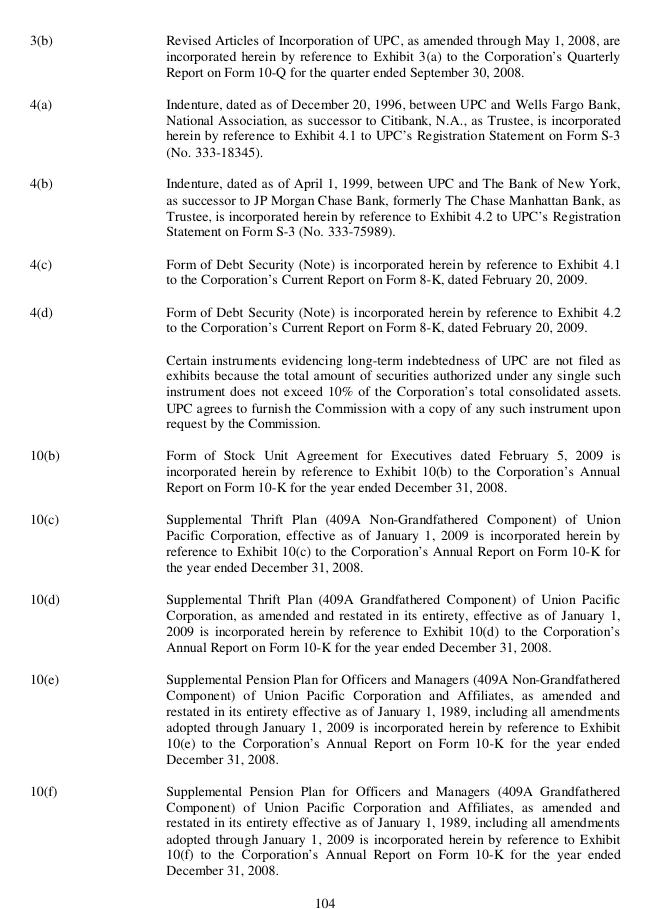table: (28, 29, 620, 878)
table column: (112, 29, 620, 878), (28, 29, 112, 878)
table row: (28, 294, 620, 437), (28, 661, 620, 773), (28, 773, 620, 878), (28, 86, 620, 166), (28, 166, 620, 246), (28, 501, 620, 581), (28, 581, 620, 661), (28, 437, 620, 501), (28, 29, 620, 86), (28, 246, 620, 294)
